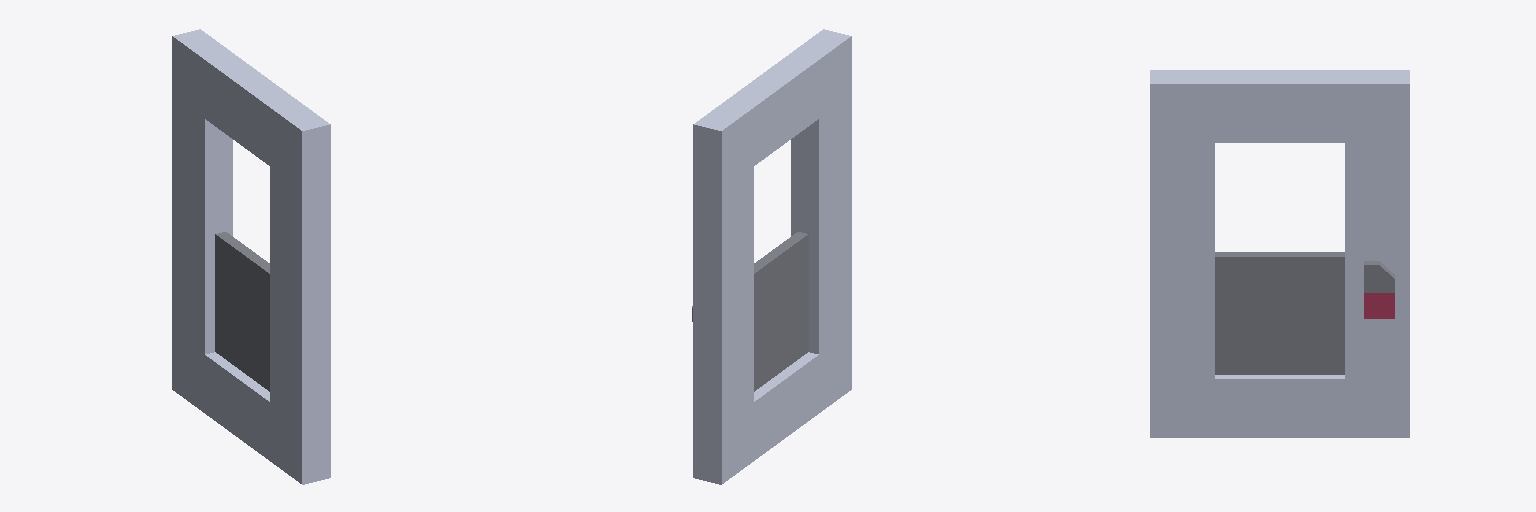
Rendered from spaceInterior_059.obj.
3 renders of one model, left to right at view 1: azimuth 30°, elevation 25°; view 2: azimuth 150°, elevation 25°; view 3: azimuth 270°, elevation 25°, orthographic.
Parts seen in each view (by area): view 1: Mesh1 Group1 Model; view 2: Mesh1 Group1 Model; view 3: Mesh1 Group1 Model.
Boxes of the visible parts, box(x1,y1,x2,y2) form: Mesh1 Group1 Model: box(172, 29, 330, 484); Mesh1 Group1 Model: box(692, 29, 851, 484); Mesh1 Group1 Model: box(1150, 70, 1409, 437).
Bounding box in the file's own units: 0.0825 × 0.75 × 0.5.